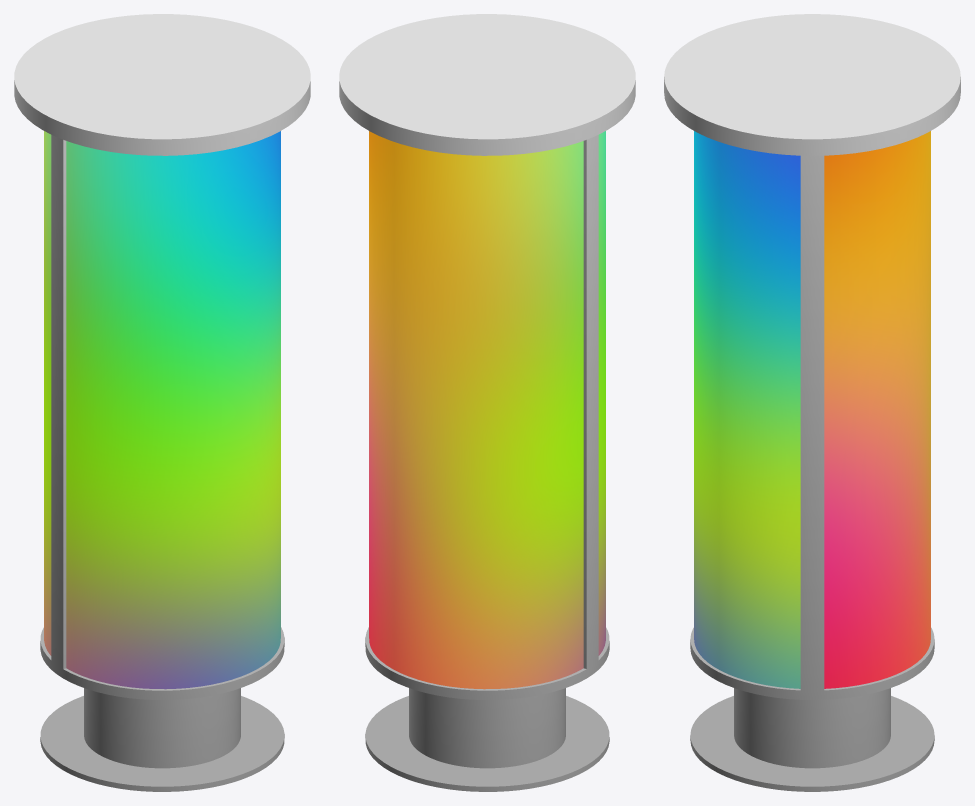
File: advertising_column_01_big.glb
The picture shows the model from 3 angles, left to right: view 1: azimuth 30°, elevation 25°; view 2: azimuth 150°, elevation 25°; view 3: azimuth 270°, elevation 25°; orthographic projection.
Visible parts, largest first — view 1: advertising_column_01_big; view 2: advertising_column_01_big; view 3: advertising_column_01_big.
Boxes of the visible parts, left/top/right/bottom form: advertising_column_01_big: left=14, top=14, right=310, bottom=791; advertising_column_01_big: left=339, top=14, right=635, bottom=791; advertising_column_01_big: left=664, top=14, right=960, bottom=791.
Size of the model in its own units: 1.82 by 4.5 by 1.82.
Materials: 2 (2 with a texture image).
